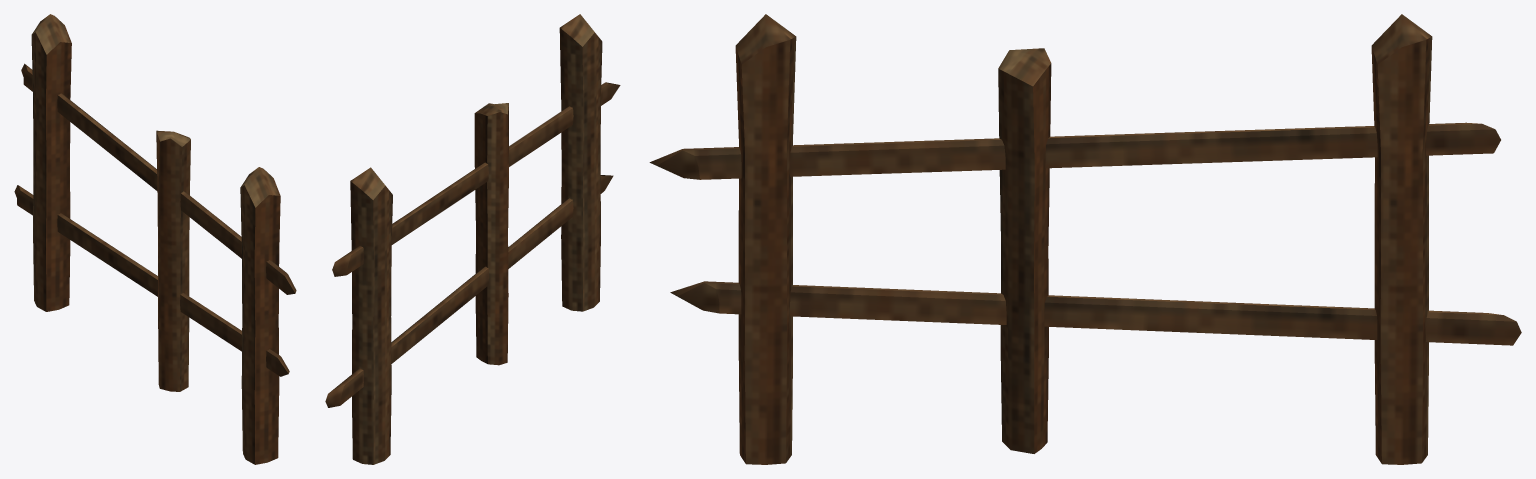
Rendered from Cerca2.fbx.
The picture shows the model from 3 angles, left to right: view 1: azimuth 30°, elevation 25°; view 2: azimuth 150°, elevation 25°; view 3: azimuth 270°, elevation 25°; orthographic projection. The views are drawn at different scales.
Parts seen in each view (by area): view 1: polySurface80; view 2: polySurface80; view 3: polySurface80.
Boxes of the visible parts, x1,y1,x2,y2 form: polySurface80: (14, 14, 296, 464); polySurface80: (325, 14, 620, 464); polySurface80: (649, 14, 1521, 464).
Bounding box in the file's own units: 0.1977 × 1.68 × 3.02.
Materials: 1 (1 with a texture image).
